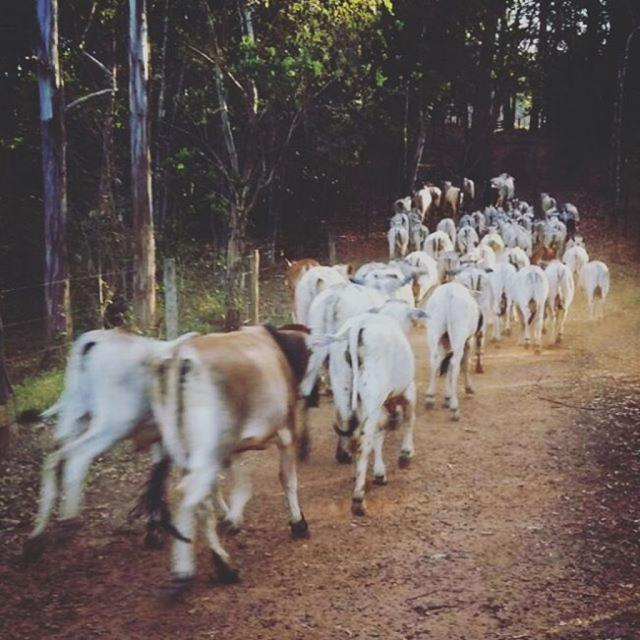Cattle: (16, 174, 610, 591)
